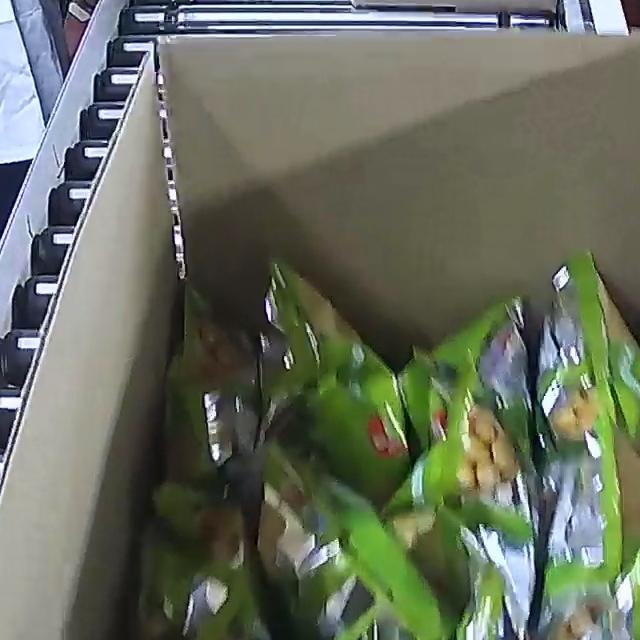yogurt: (75, 247, 640, 640)
